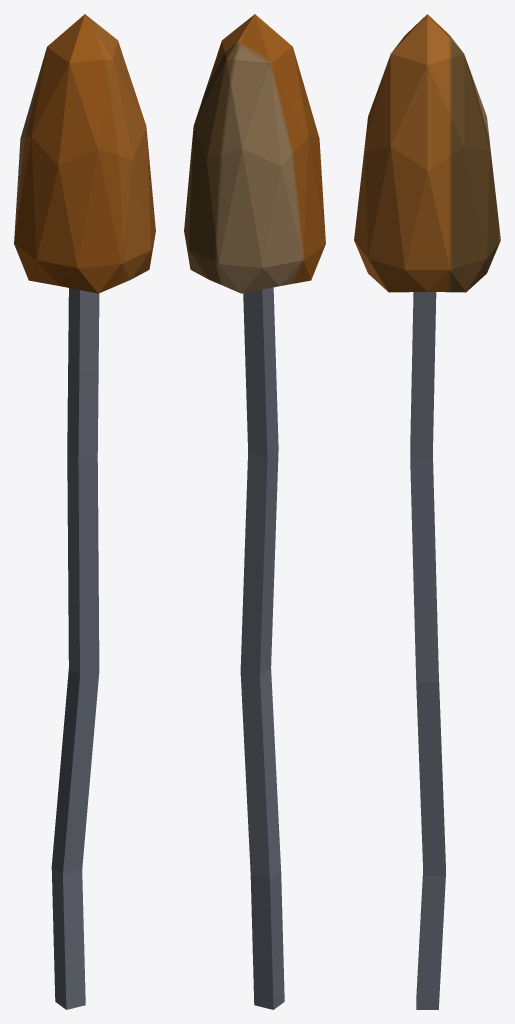
The model's file is Mushroom_04.fbx.
The picture shows the model from 3 angles, left to right: view 1: azimuth 30°, elevation 25°; view 2: azimuth 150°, elevation 25°; view 3: azimuth 270°, elevation 25°; orthographic projection.
Visible parts, largest first — view 1: Mushroom_04; view 2: Mushroom_04; view 3: Mushroom_04.
Boxes of the visible parts, x1,y1,x2,y2 form: Mushroom_04: [14, 14, 155, 1009]; Mushroom_04: [184, 14, 325, 1009]; Mushroom_04: [354, 14, 500, 1009].
Size of the model in its own units: 0.0945 by 0.7449 by 0.0994.
